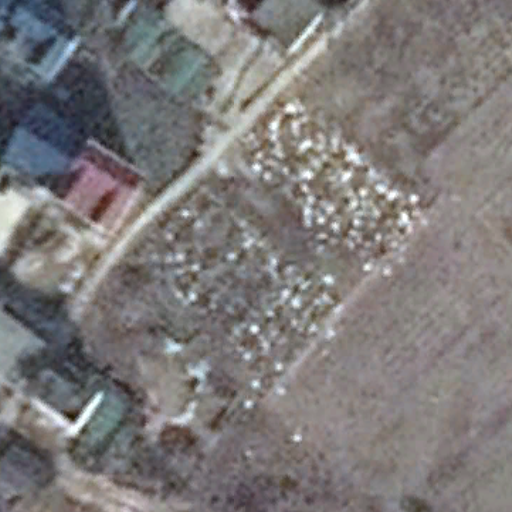msw: (141, 103, 415, 389)
